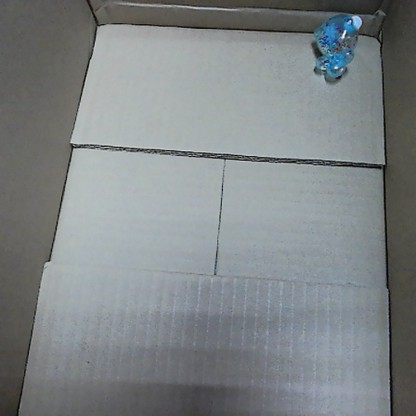bluefish: (308, 10, 363, 84)
